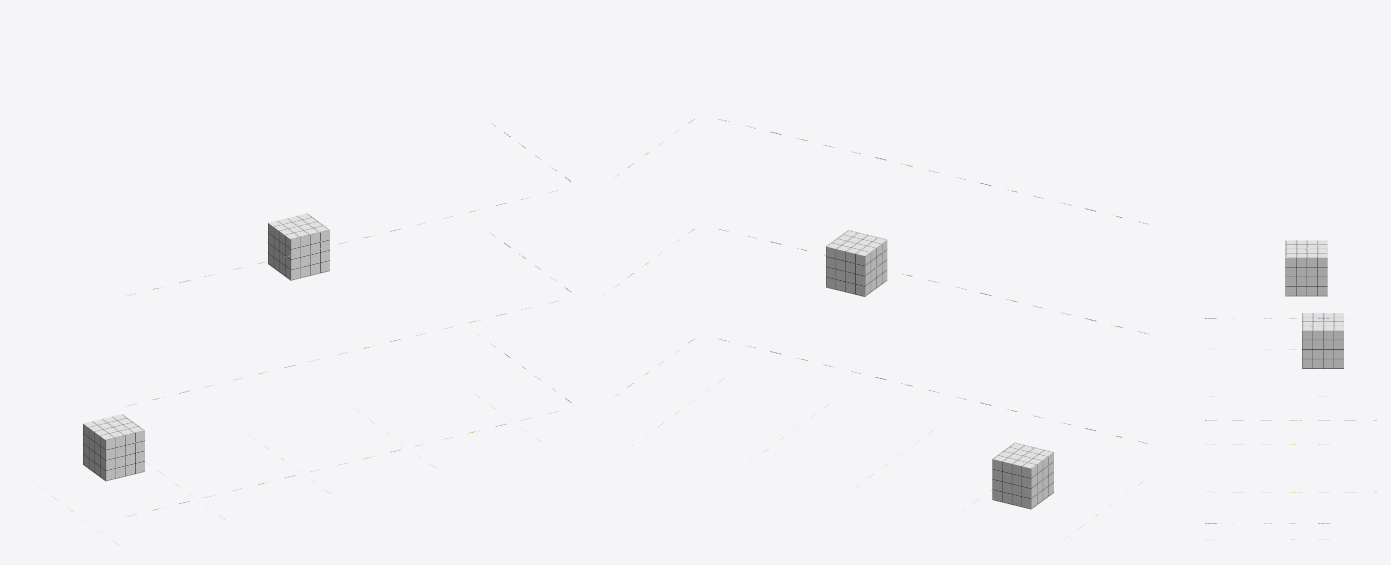
The model's file is TEST_LIGHTS_MESHES.fbx.
3 renders of one model, left to right at view 1: azimuth 30°, elevation 25°; view 2: azimuth 150°, elevation 25°; view 3: azimuth 270°, elevation 25°, orthographic. The views are drawn at different scales.
Visible parts, largest first — view 1: TestCube, TestCube.001, Studio Corner; view 2: TestCube.001, TestCube, Studio Corner; view 3: TestCube, TestCube.001, Studio Corner.
Part boxes in pixels (x1,y1,x2,y2): TestCube: (268, 213, 329, 280); TestCube.001: (83, 414, 144, 481); Studio Corner: (38, 124, 573, 545); TestCube.001: (992, 442, 1053, 509); TestCube: (826, 230, 887, 296); Studio Corner: (603, 116, 1148, 539); TestCube: (1285, 240, 1327, 296); TestCube.001: (1302, 313, 1343, 368); Studio Corner: (1205, 318, 1376, 540).
Bounding box in the file's own units: 23.84 × 17.34 × 8.68.
